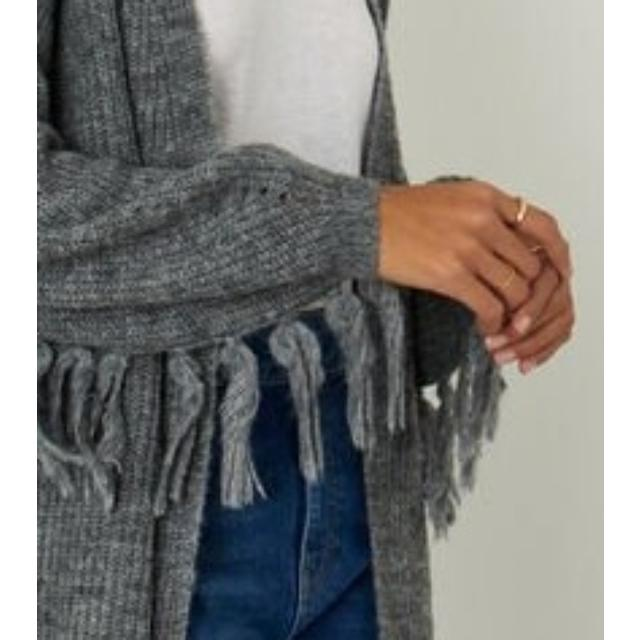polyester: (36, 0, 430, 372)
